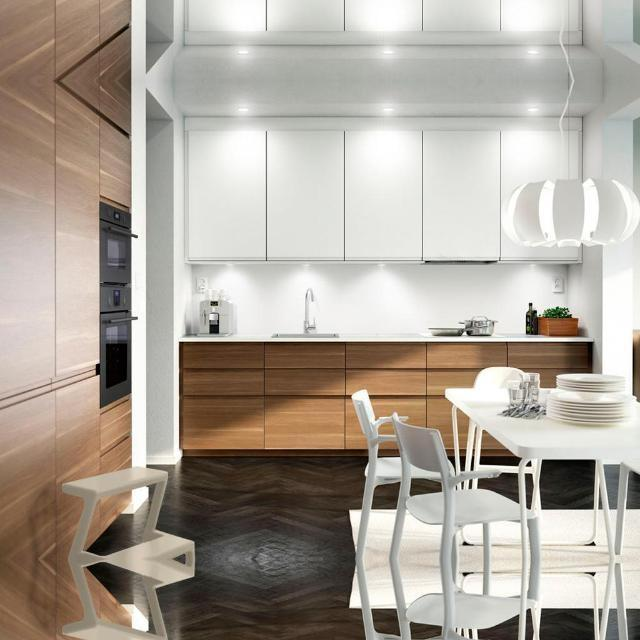obstacle: (442, 382, 640, 558), (353, 388, 541, 558), (442, 558, 640, 640), (353, 558, 541, 640), (50, 466, 200, 558), (50, 558, 199, 640)
